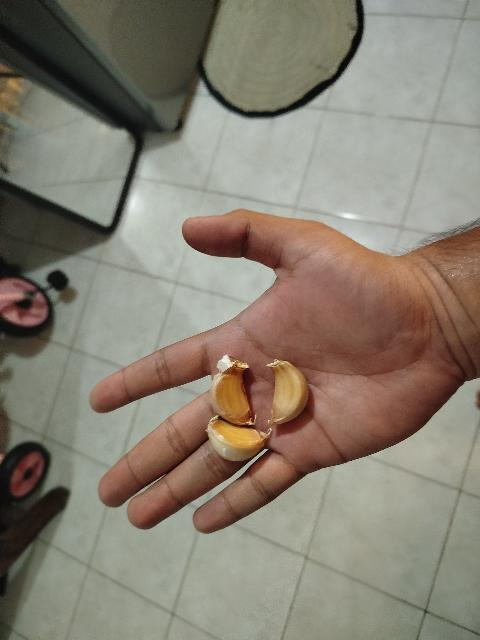garlic: (210, 354, 256, 426), (206, 414, 272, 462), (266, 358, 310, 428)
